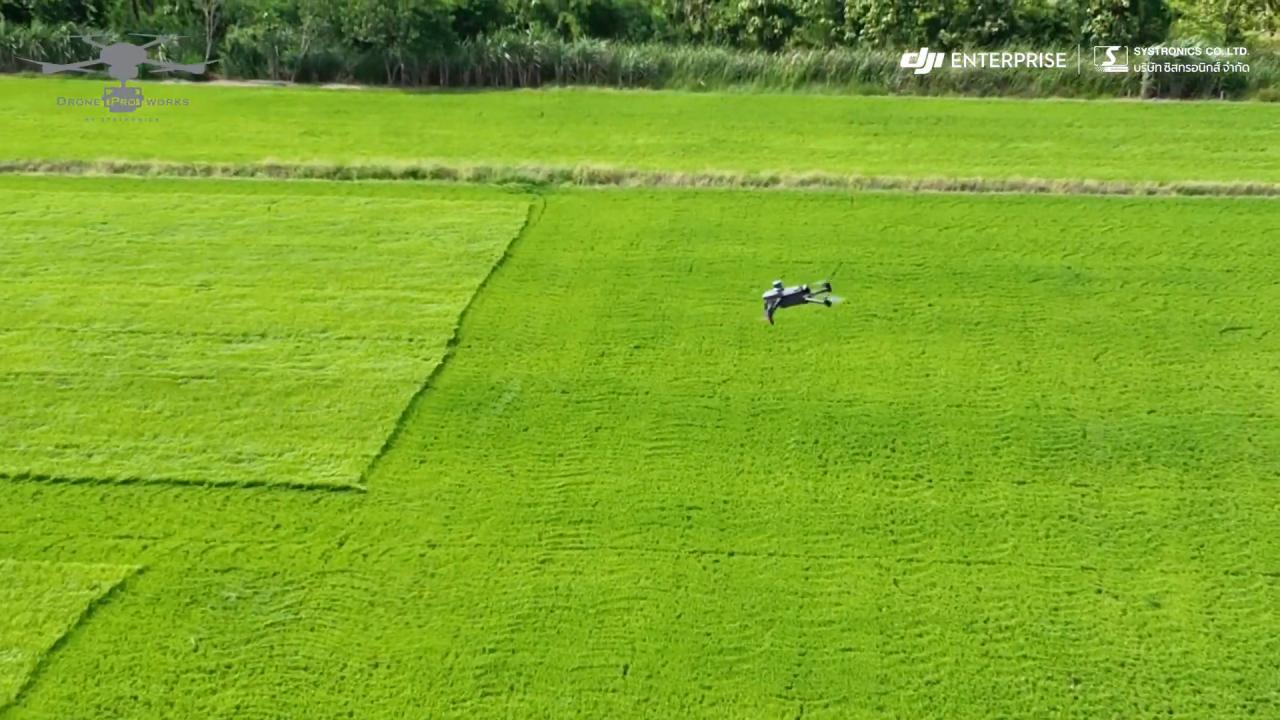Drone: (746, 271, 861, 328)
